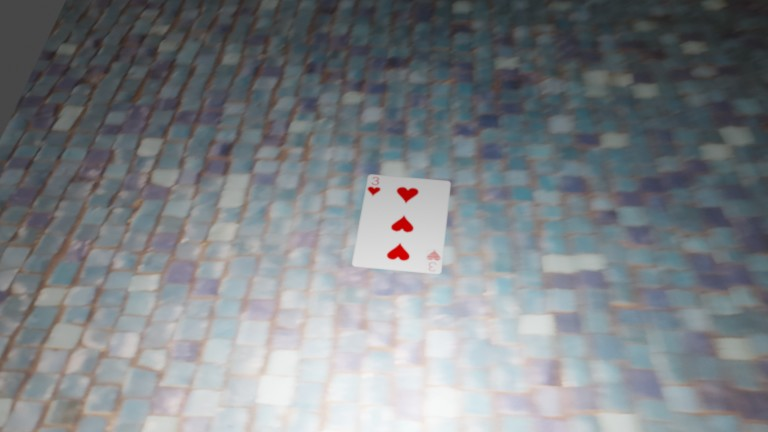3_of_hearts: (424, 248, 443, 272), (365, 176, 384, 197)
